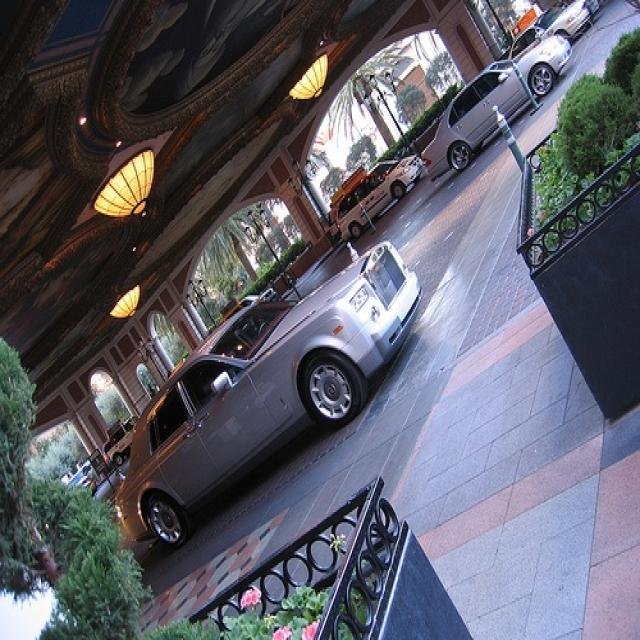car: (114, 237, 426, 551), (421, 29, 575, 181), (330, 150, 425, 241), (510, 4, 592, 62), (101, 417, 140, 468)
